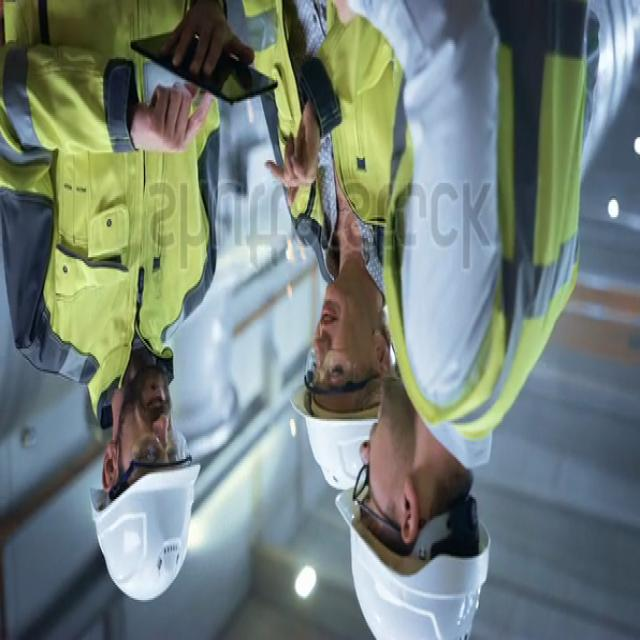Glasses: (352, 464, 412, 546), (302, 344, 382, 399), (124, 433, 189, 488)
Helmet: (345, 502, 498, 639), (89, 462, 207, 610), (289, 382, 383, 502)
Vest: (11, 0, 220, 423), (381, 0, 584, 433), (255, 9, 384, 285)
